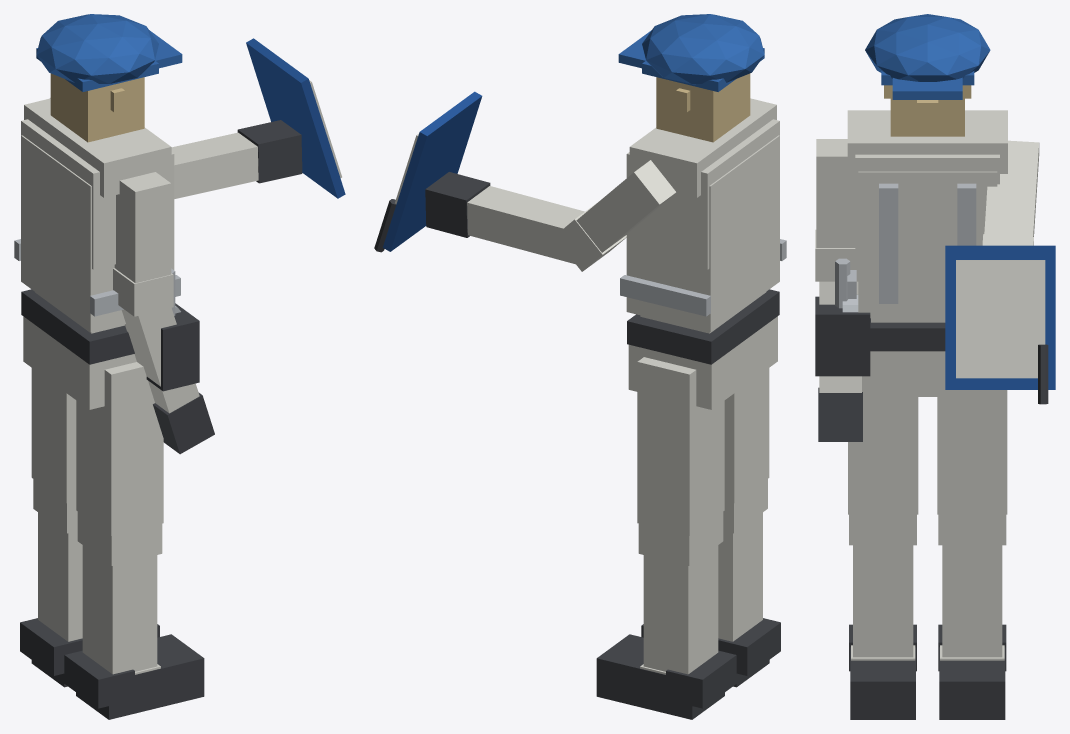
File: worker_tech.glb
The picture shows the model from 3 angles, left to right: view 1: azimuth 30°, elevation 25°; view 2: azimuth 150°, elevation 25°; view 3: azimuth 270°, elevation 25°; orthographic projection.
Parts seen in each view (by area): view 1: Worker_Body, Worker_LegR, Worker_LegL, Worker_ArmR, Worker_ArmL, Worker_Clipboard; view 2: Worker_Body, Worker_LegL, Worker_ArmL, Worker_LegR, Worker_Clipboard; view 3: Worker_Body, Worker_LegL, Worker_LegR, Worker_Clipboard, Worker_ArmR, Worker_ArmL.
Boxes of the visible parts, left/top/right/bottom form: Worker_Body: left=14, top=14, right=199, bottom=409; Worker_LegR: left=64, top=362, right=204, bottom=719; Worker_LegL: left=20, top=368, right=159, bottom=687; Worker_ArmR: left=113, top=172, right=214, bottom=454; Worker_ArmL: left=50, top=98, right=302, bottom=198; Worker_Clipboard: left=246, top=38, right=345, bottom=198; Worker_Body: left=618, top=14, right=786, bottom=409; Worker_LegL: left=596, top=357, right=736, bottom=719; Worker_ArmL: left=425, top=160, right=676, bottom=271; Worker_LegR: left=641, top=368, right=780, bottom=687; Worker_Clipboard: left=374, top=91, right=482, bottom=252; Worker_Body: left=815, top=14, right=1007, bottom=396; Worker_LegL: left=937, top=390, right=1007, bottom=719; Worker_LegR: left=848, top=397, right=918, bottom=719; Worker_Clipboard: left=945, top=245, right=1055, bottom=404; Worker_ArmR: left=815, top=139, right=862, bottom=441; Worker_ArmL: left=982, top=140, right=1039, bottom=245.
Bounding box in the file's own units: 0.8769 × 1.72 × 0.5666.
